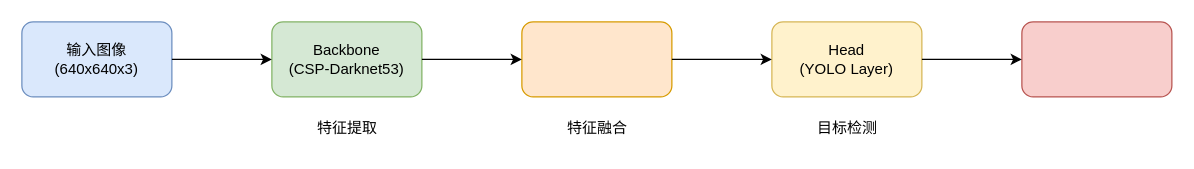
Some shapes in this 1194 by 169 pixel diagram are drawn without their labels. The shapes that lost their labels are listed below. From the top down, each one's box as (x1, y1, x2, y2) in pixels, then its label:
(521, 21, 672, 97): Neck (PANet)
(1021, 21, 1172, 97): 输出预测 (边界框, 置信度, 类别)
